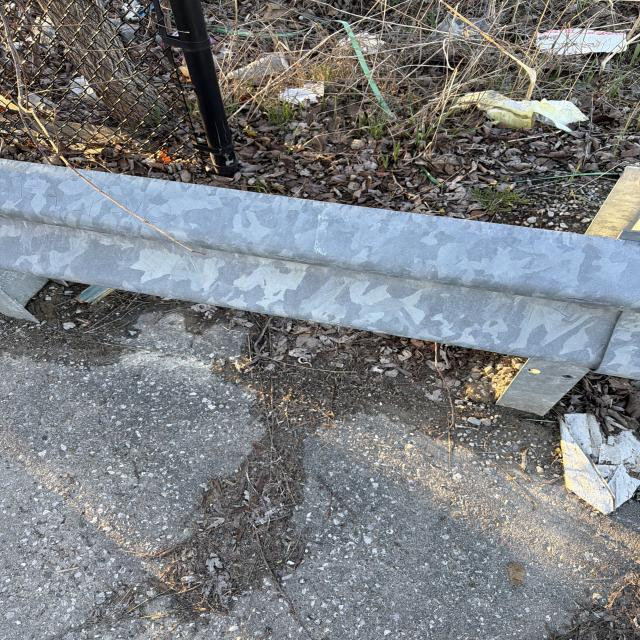Guard rail: (11, 168, 614, 354)
